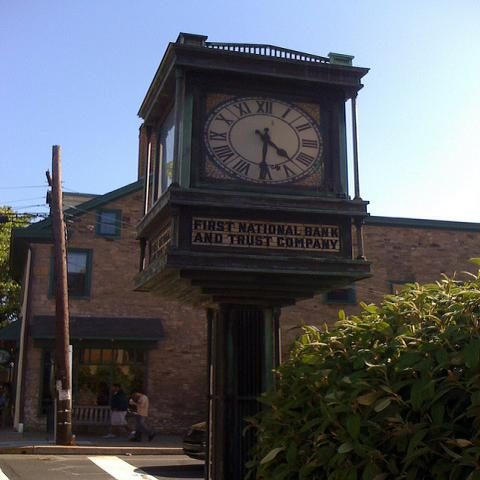car: (182, 421, 206, 461)
